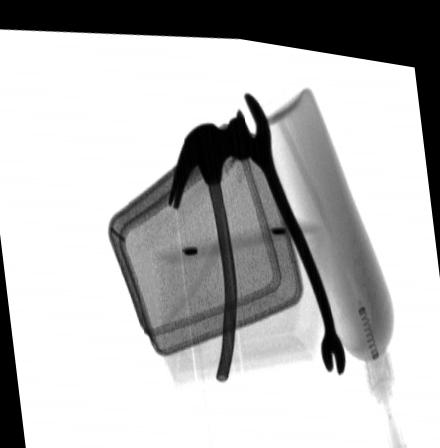Hammer: (165, 111, 250, 376)
Wrench: (234, 84, 343, 364)
